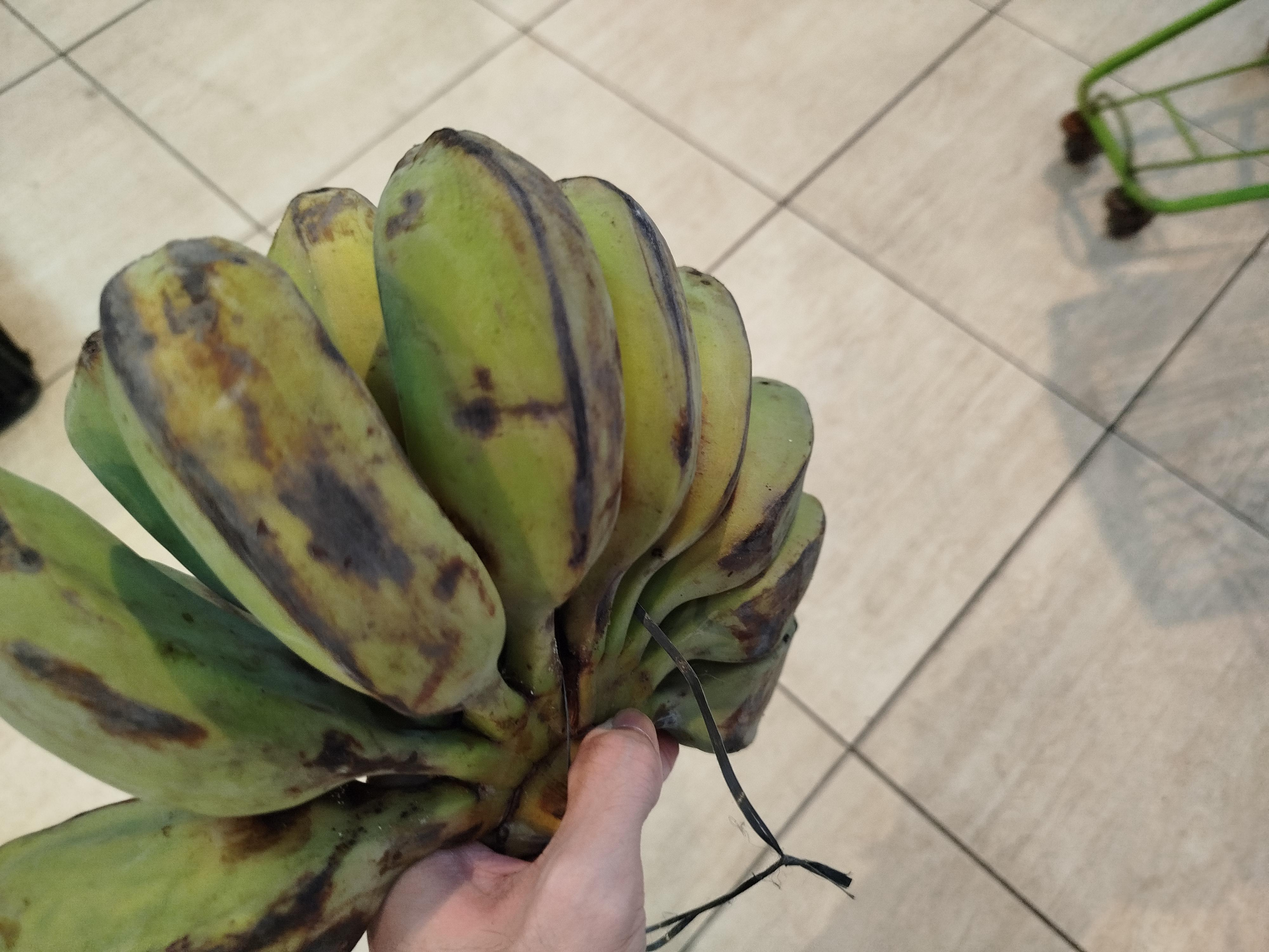underripe: (0, 133, 826, 952)
